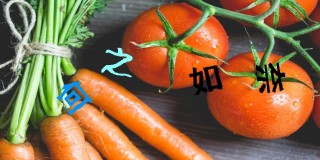之: (102, 45, 134, 79)
何: (56, 81, 92, 115)
奈: (253, 61, 286, 93)
如: (188, 64, 224, 95)
